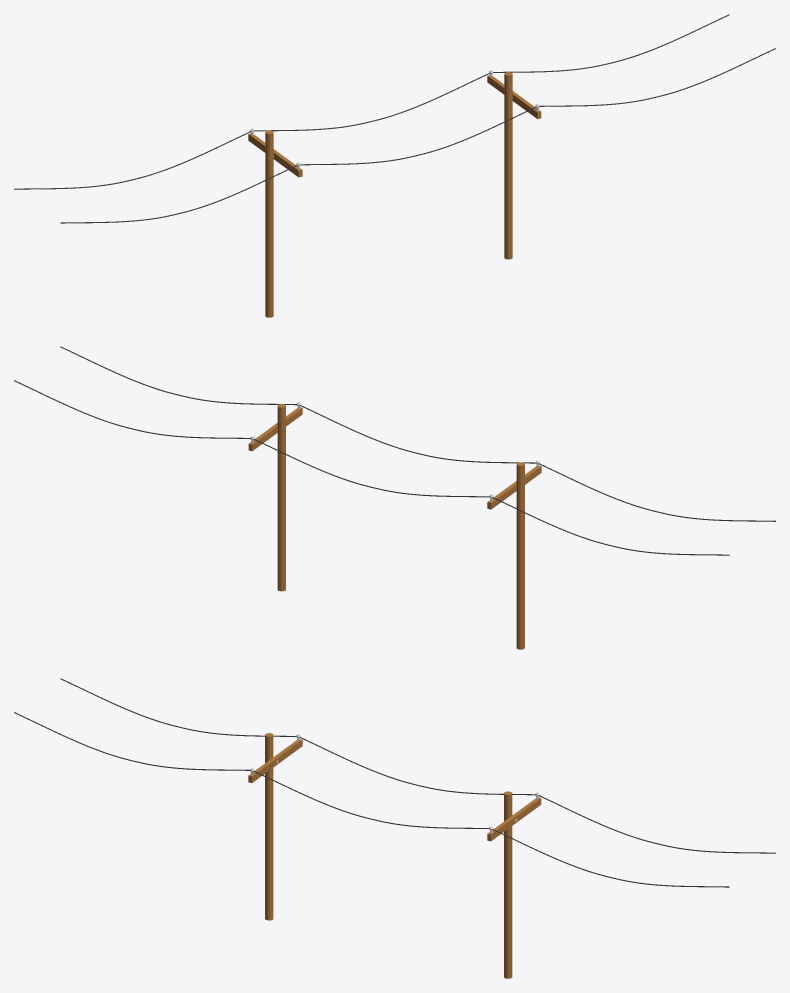
File: powerlines.glb
The picture shows the model from 3 angles, top to bottom: view 1: azimuth 30°, elevation 25°; view 2: azimuth 150°, elevation 25°; view 3: azimuth 330°, elevation 25°; orthographic projection.
Parts seen in each view (by area): view 1: Plane.000; view 2: Plane.000; view 3: Plane.000.
Part boxes in pixels (x1,y1,x2,y2): Plane.000: (14,14,775,317); Plane.000: (14,346,775,649); Plane.000: (14,678,775,978).
Size of the model in its own units: 30.68 by 7.54 by 3.75.
